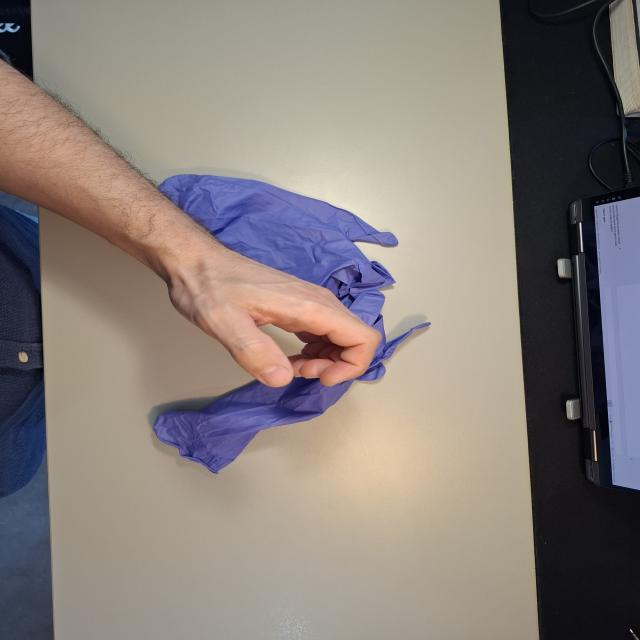glove_off: (153, 236, 385, 390)
